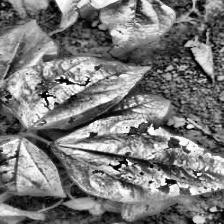ALS: (64, 118, 224, 194), (0, 58, 149, 137), (0, 19, 68, 91), (0, 132, 63, 201)
